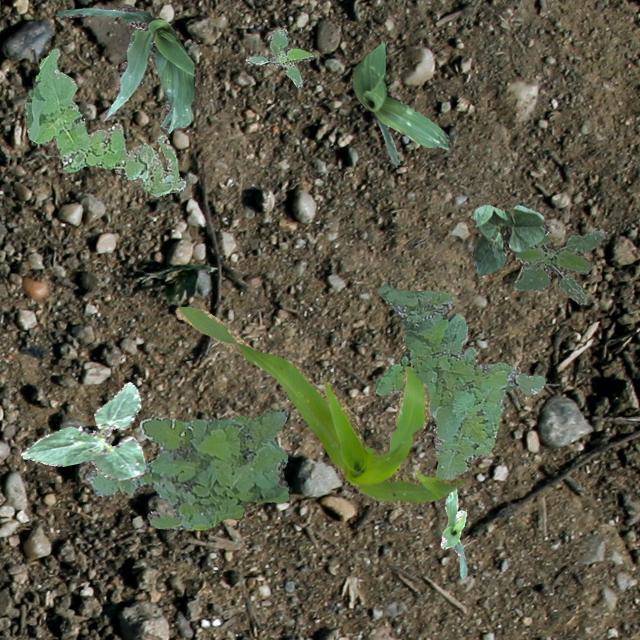crop: (175, 306, 462, 504), (54, 5, 194, 132), (351, 41, 448, 166), (20, 382, 146, 478), (472, 203, 548, 274), (440, 488, 466, 578)
weed: (373, 284, 544, 478), (85, 408, 288, 528), (22, 48, 186, 196), (512, 230, 606, 304), (244, 27, 314, 86)
